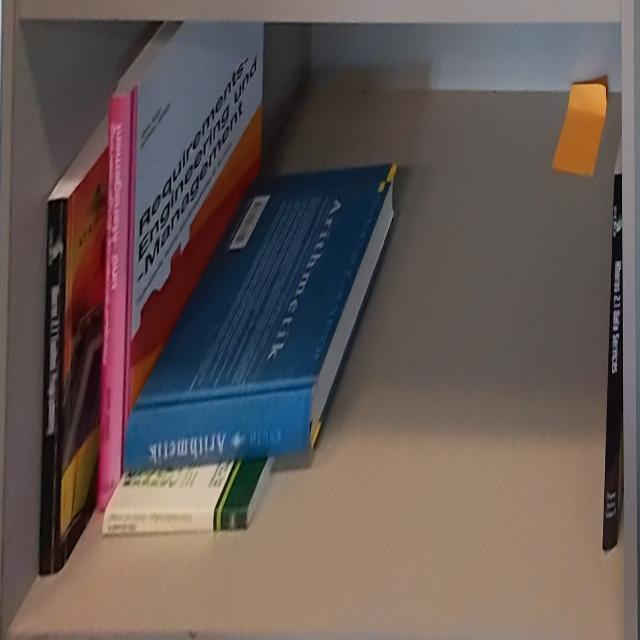Book Spine: (125, 383, 316, 471), (97, 92, 133, 511), (37, 197, 69, 582), (603, 173, 622, 552), (103, 510, 248, 538)
